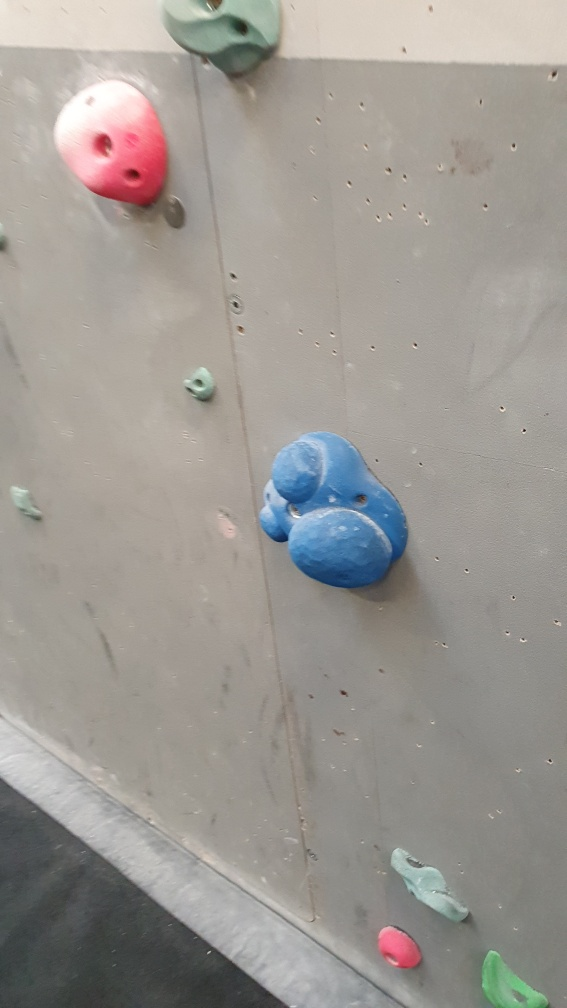Sloper: (259, 430, 411, 594)
